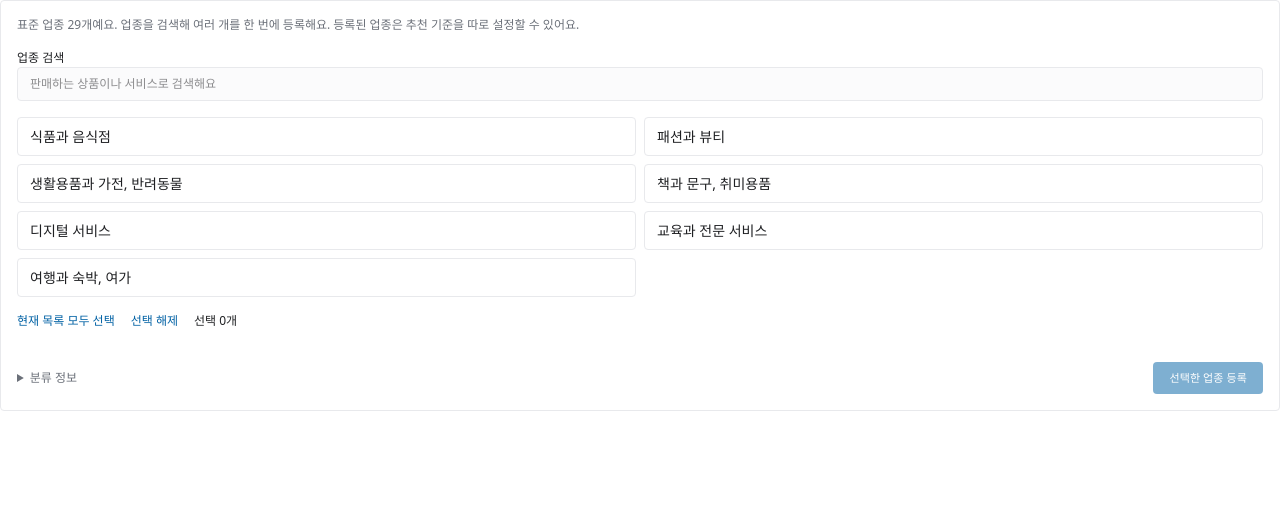
Scenario: 카테고리별 미등록 선택을 누적하고 동의어는 전체에서 찾는다
This screenshot has width=1280, height=521.
Click the button "책과 문구, 취미용품": (714, 184) [644,164,1263,203]
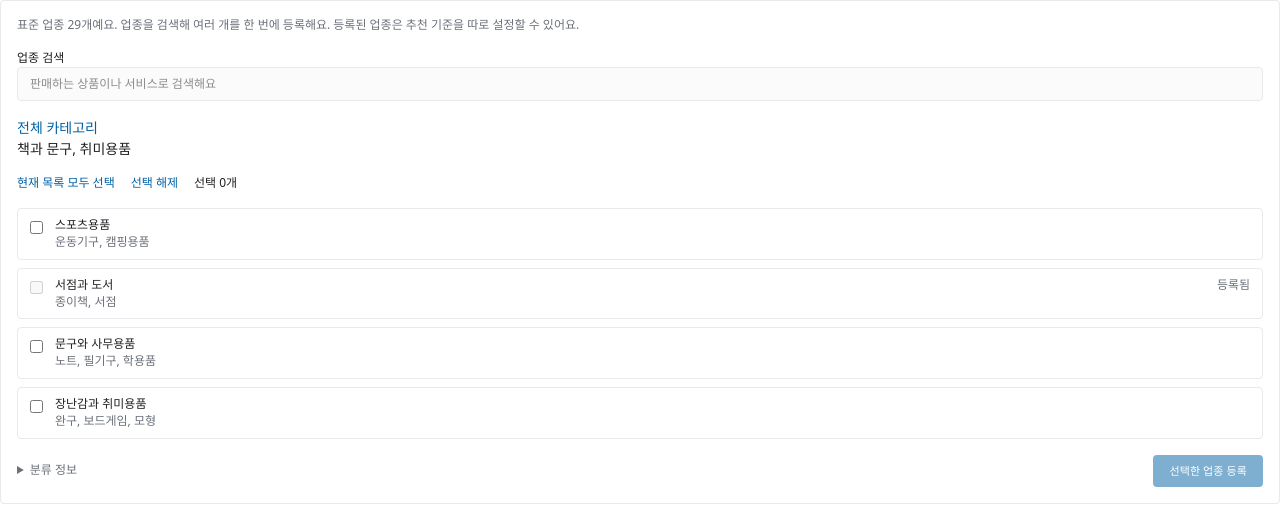
expect the checkbox labelled "서점과 도서 종이책, 서점 등록됨" is disabled: met, box [30,281,43,294]
Click the button "현재 목록 모두 선택": (66, 184) [17,175,115,192]
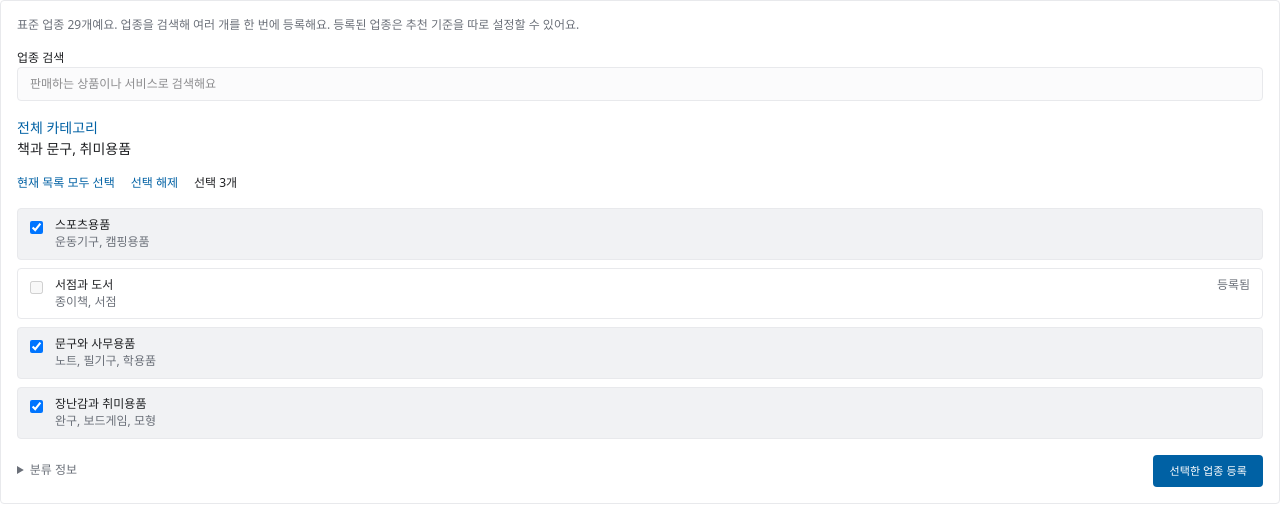
In the search field: (640, 84) [17,67,1263,101], type "인강"
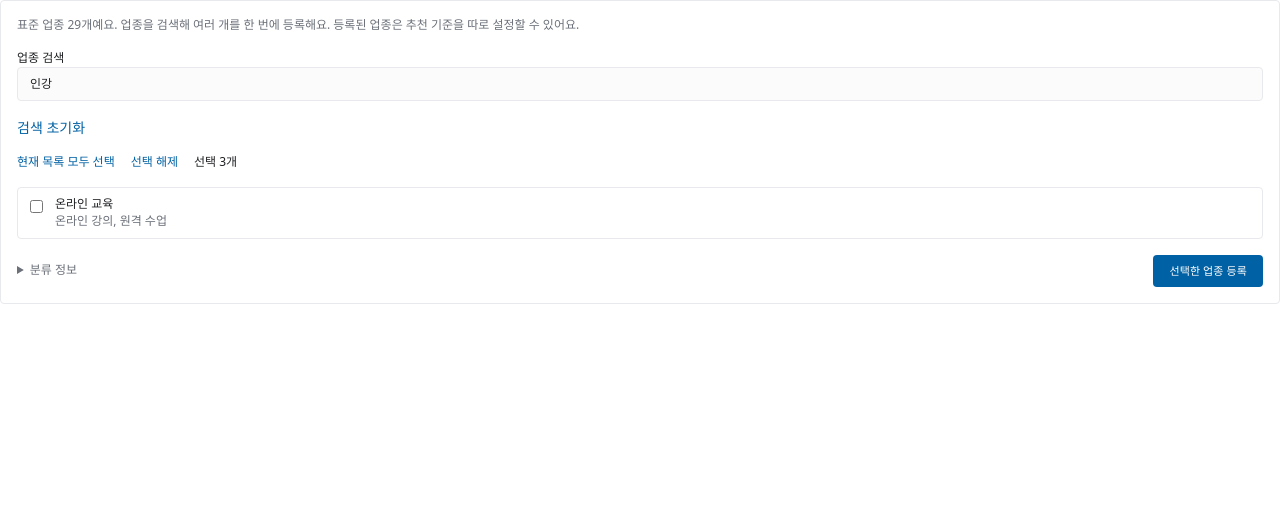
Click the checkbox labelled "온라인 교육 온라인 강의, 원격 수업": (36, 207) [30,200,43,213]
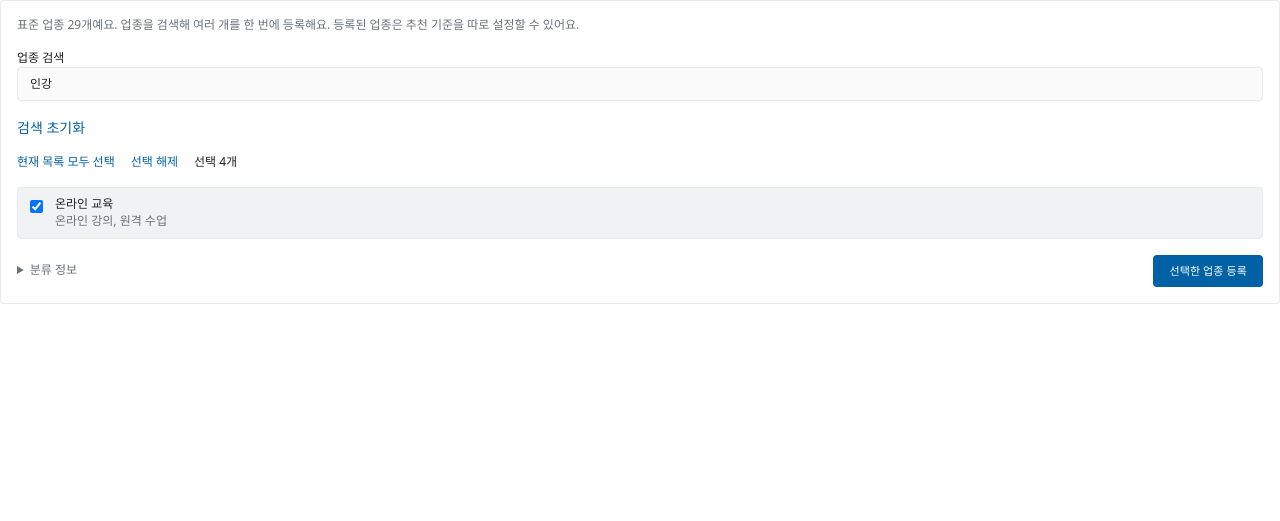
Click the button "검색 초기화": (51, 128) [17,117,85,138]
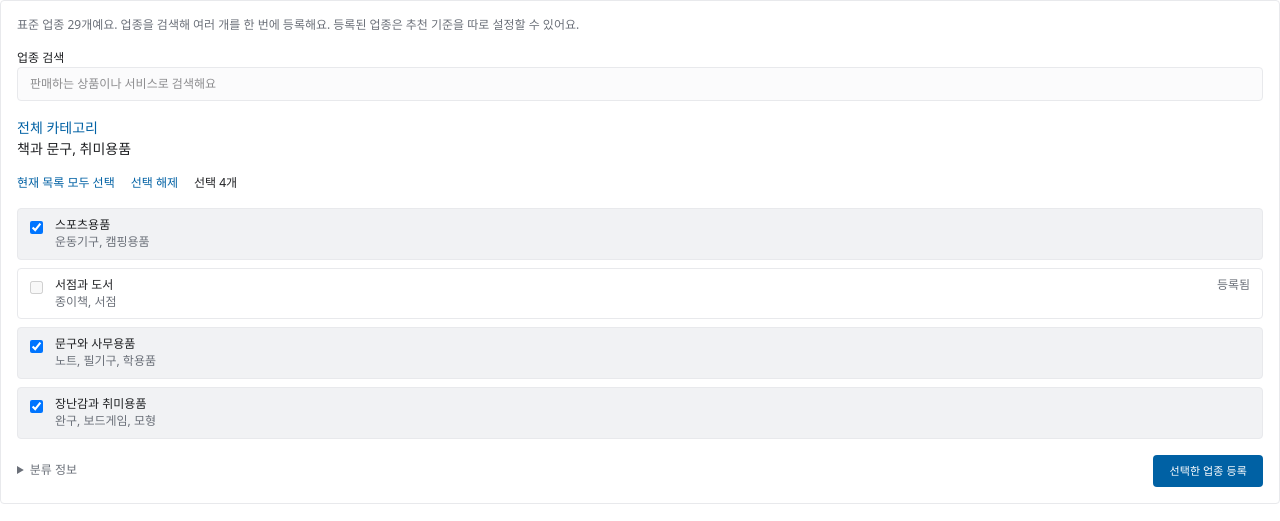
expect the checkbox labelled "문구와 사무용품 노트, 필기구, 학용품" is checked: met, box [30,340,43,353]
Click the button "전체 카테고리": (57, 128) [17,117,98,138]
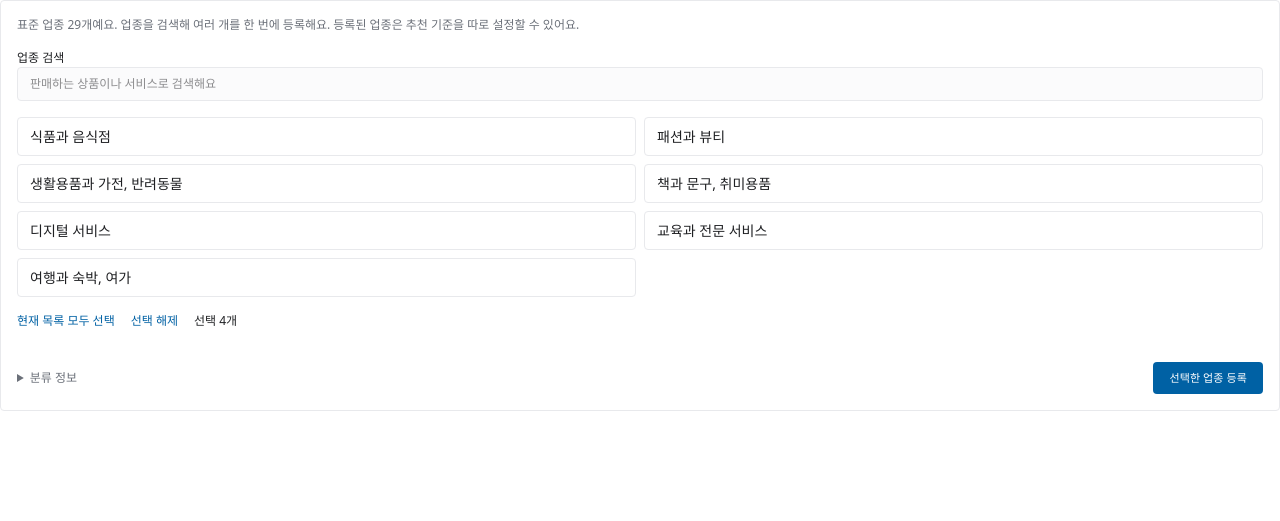
expect the checkbox is gone: met
